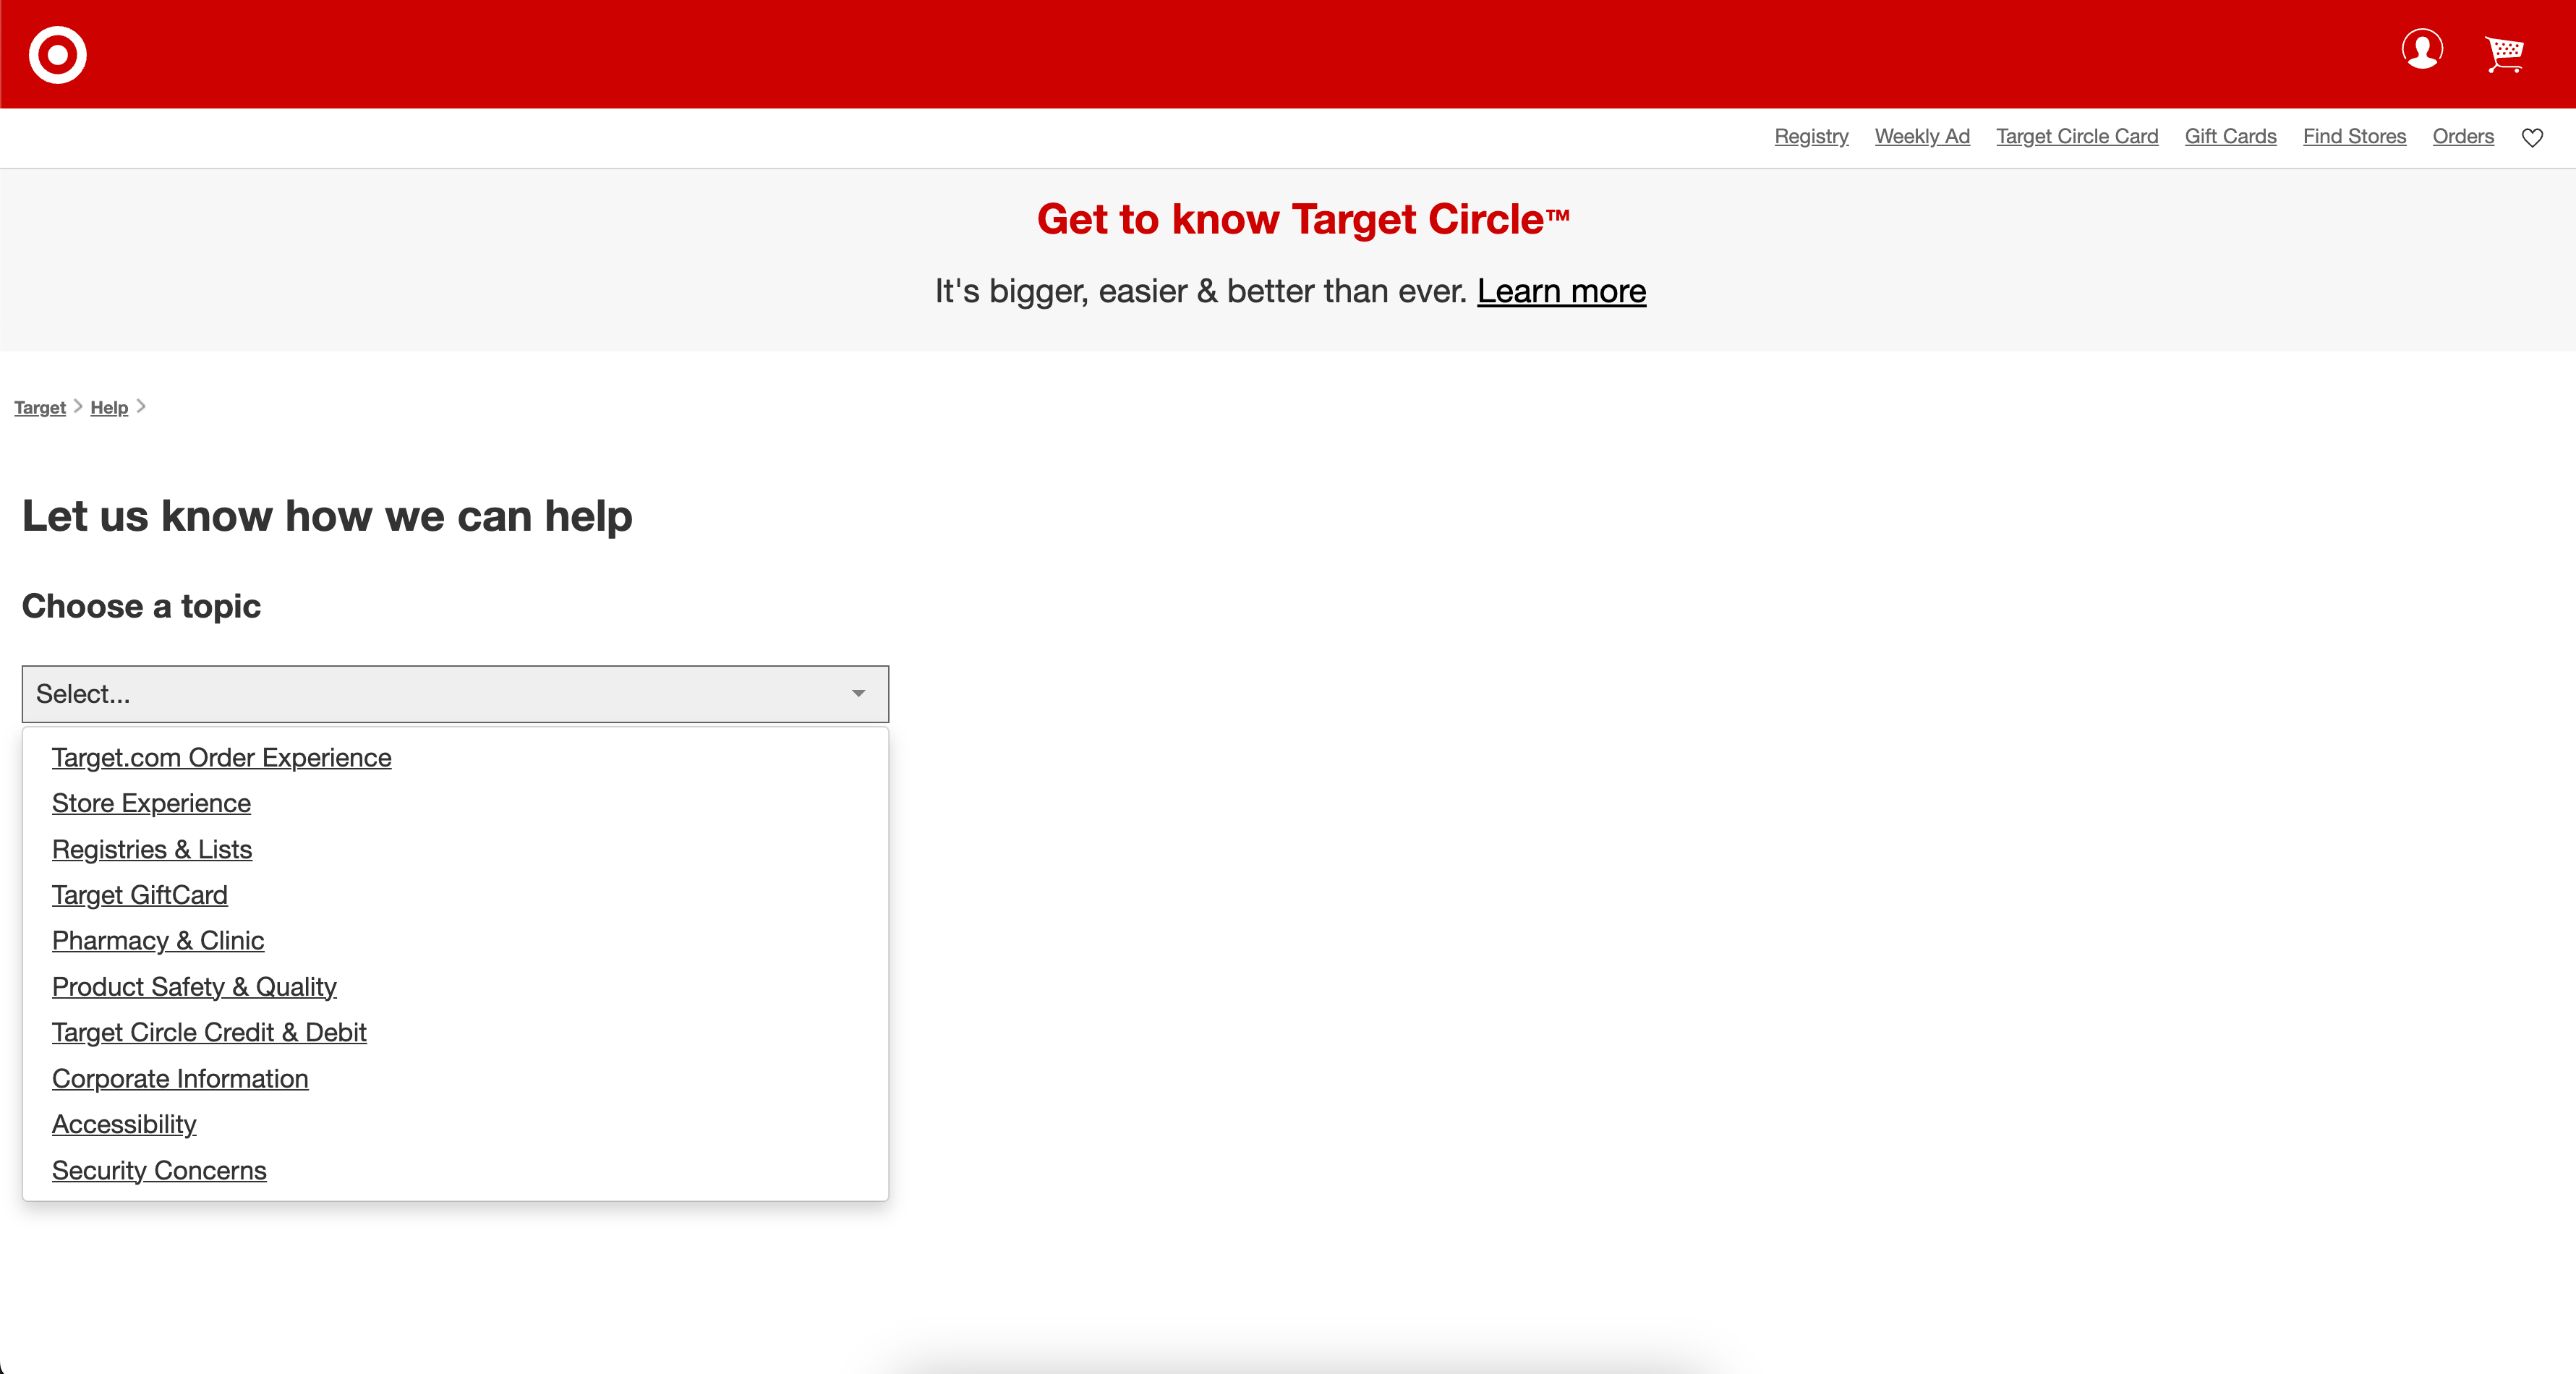button: (19, 662, 891, 725), (14, 19, 106, 94), (2383, 17, 2452, 78), (2475, 27, 2539, 80)
